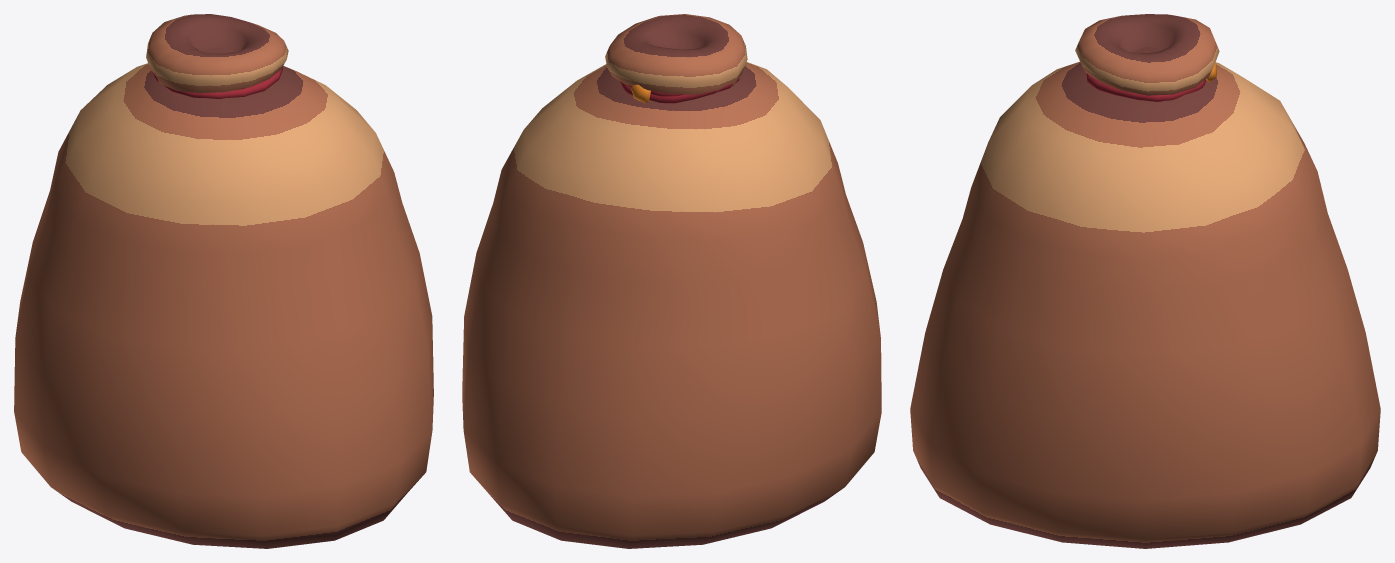
File: Bolsa_02.fbx
3 views of the same model, side by side, from view 1: azimuth 30°, elevation 25°; view 2: azimuth 150°, elevation 25°; view 3: azimuth 270°, elevation 25° (orthographic).
Visible parts, largest first — view 1: Bolsa_02; view 2: Bolsa_02; view 3: Bolsa_02.
Part boxes in pixels (left/top/right/bottom): Bolsa_02: left=14, top=14, right=433, bottom=548; Bolsa_02: left=462, top=14, right=881, bottom=548; Bolsa_02: left=910, top=14, right=1380, bottom=548.
Bounding box in the file's own units: 104 × 122 × 115.
